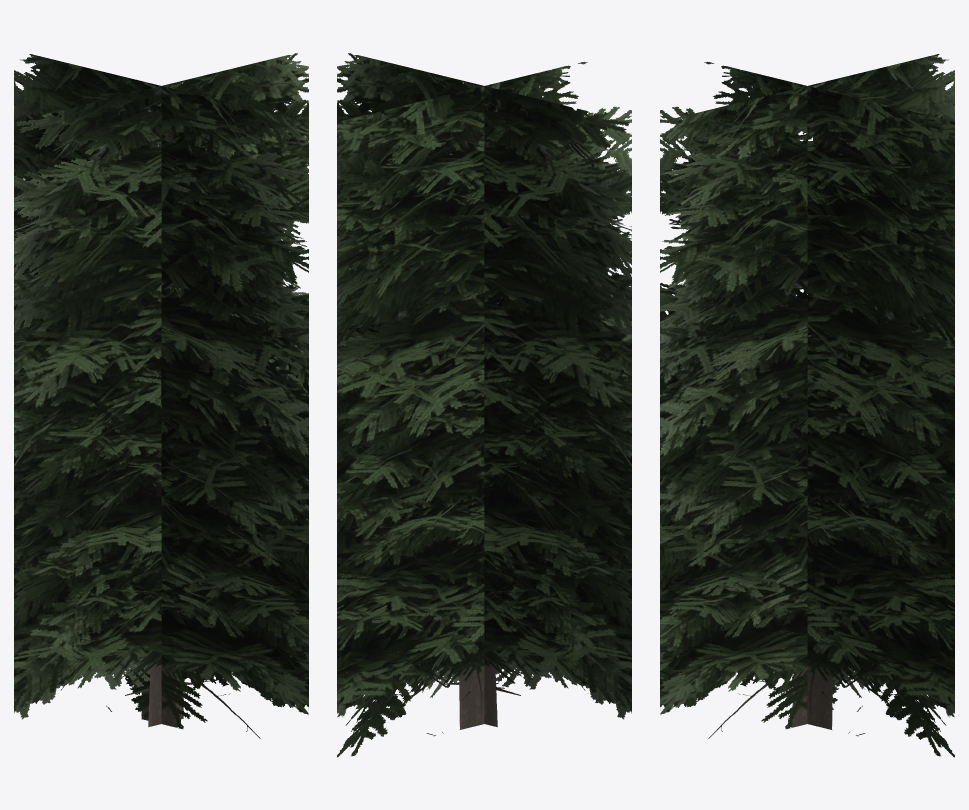
File: smrk_stary_daleko.glb
3 renders of one model, left to right at view 1: azimuth 30°, elevation 25°; view 2: azimuth 150°, elevation 25°; view 3: azimuth 270°, elevation 25°, orthographic.
Visible parts, largest first — view 1: smrk_stary_daleko; view 2: smrk_stary_daleko; view 3: smrk_stary_daleko.
Boxes of the visible parts, box(x1,y1,x2,y2) form: smrk_stary_daleko: box(14, 53, 308, 738); smrk_stary_daleko: box(337, 53, 631, 757); smrk_stary_daleko: box(660, 54, 954, 757).
Size of the model in its own units: 10.77 by 22.27 by 9.33.
3 materials, 3 textured.
